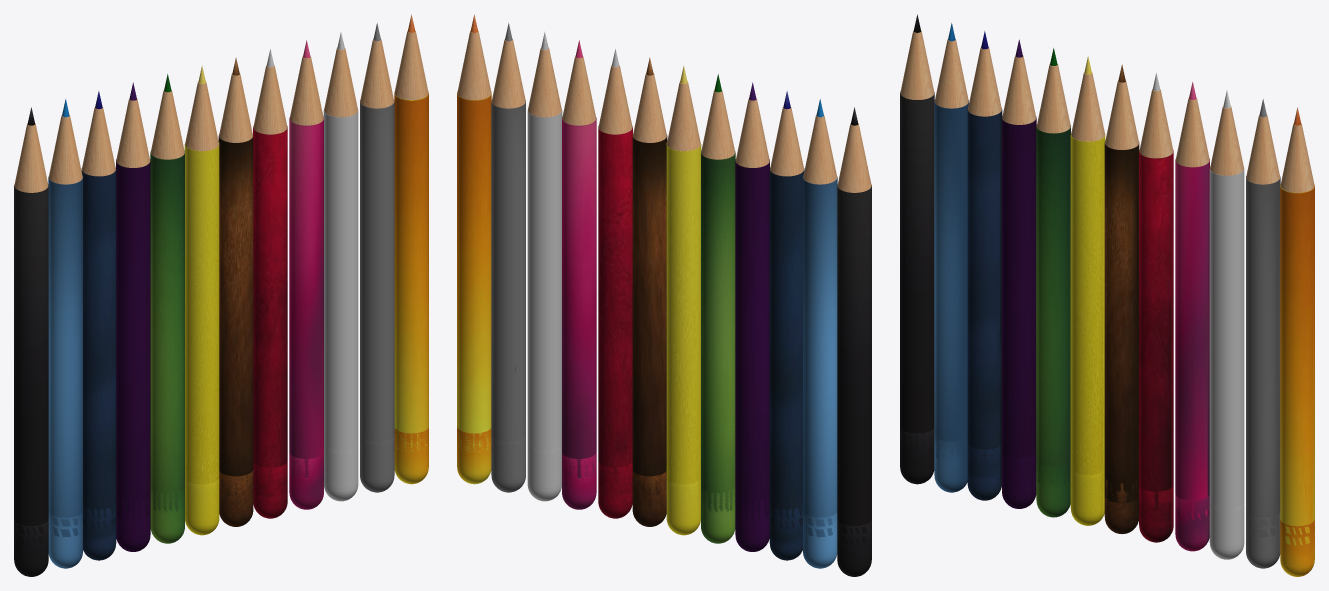
Rendered from Tracing.fbx.
The picture shows the model from 3 angles, left to right: view 1: azimuth 30°, elevation 25°; view 2: azimuth 150°, elevation 25°; view 3: azimuth 330°, elevation 25°; orthographic projection.
Visible parts, largest first — view 1: Capsule_1_6, Capsule_1_4, Capsule_1_5, Capsule_1, Capsule_1_8, Capsule_1_11, Capsule_1_2, Capsule_1_3, Capsule_1_7, Capsule_1_9, Capsule_1_12, Capsule_1_10 (+12 smaller); view 2: Capsule_1_6, Capsule_1_4, Capsule_1_5, Capsule_1, Capsule_1_8, Capsule_1_11, Capsule_1_2, Capsule_1_3, Capsule_1_7, Capsule_1_9, Capsule_1_12, Capsule_1_10 (+12 smaller); view 3: Capsule_1_3, Capsule_1_7, Capsule_1_10, Capsule_1_5, Capsule_1_6, Capsule_1_2, Capsule_1_12, Capsule_1_4, Capsule_1_8, Capsule_1_9, Capsule_1, Capsule_1_11 (+12 smaller).
Part boxes in pixels (x1,y1,x2,y2): Capsule_1_6: [218, 134, 253, 526]; Capsule_1_4: [289, 117, 323, 509]; Capsule_1_5: [253, 126, 287, 518]; Capsule_1: [394, 91, 428, 484]; Capsule_1_8: [150, 151, 184, 543]; Capsule_1_11: [48, 176, 82, 568]; Capsule_1_2: [360, 100, 394, 492]; Capsule_1_3: [323, 109, 358, 501]; Capsule_1_7: [184, 143, 219, 535]; Capsule_1_9: [116, 159, 150, 551]; Capsule_1_12: [14, 184, 48, 576]; Capsule_1_10: [81, 168, 116, 560]; Capsule_1_6: [632, 134, 667, 526]; Capsule_1_4: [562, 117, 596, 509]; Capsule_1_5: [598, 126, 632, 518]; Capsule_1: [457, 91, 491, 484]; Capsule_1_8: [701, 151, 735, 543]; Capsule_1_11: [803, 176, 837, 568]; Capsule_1_2: [491, 100, 525, 492]; Capsule_1_3: [527, 109, 562, 501]; Capsule_1_7: [666, 143, 701, 535]; Capsule_1_9: [735, 159, 769, 551]; Capsule_1_12: [837, 184, 871, 576]; Capsule_1_10: [769, 168, 804, 560]; Capsule_1_3: [1209, 167, 1244, 559]; Capsule_1_7: [1070, 133, 1105, 525]; Capsule_1_10: [967, 108, 1002, 500]; Capsule_1_5: [1139, 150, 1173, 542]; Capsule_1_6: [1104, 141, 1139, 533]; Capsule_1_2: [1246, 176, 1280, 568]; Capsule_1_12: [900, 91, 934, 484]; Capsule_1_4: [1175, 159, 1209, 551]; Capsule_1_8: [1036, 125, 1070, 517]; Capsule_1_9: [1002, 116, 1036, 508]; Capsule_1: [1280, 184, 1314, 576]; Capsule_1_11: [934, 100, 968, 492].
Bounding box in the file's own units: 547 × 597 × 40.
